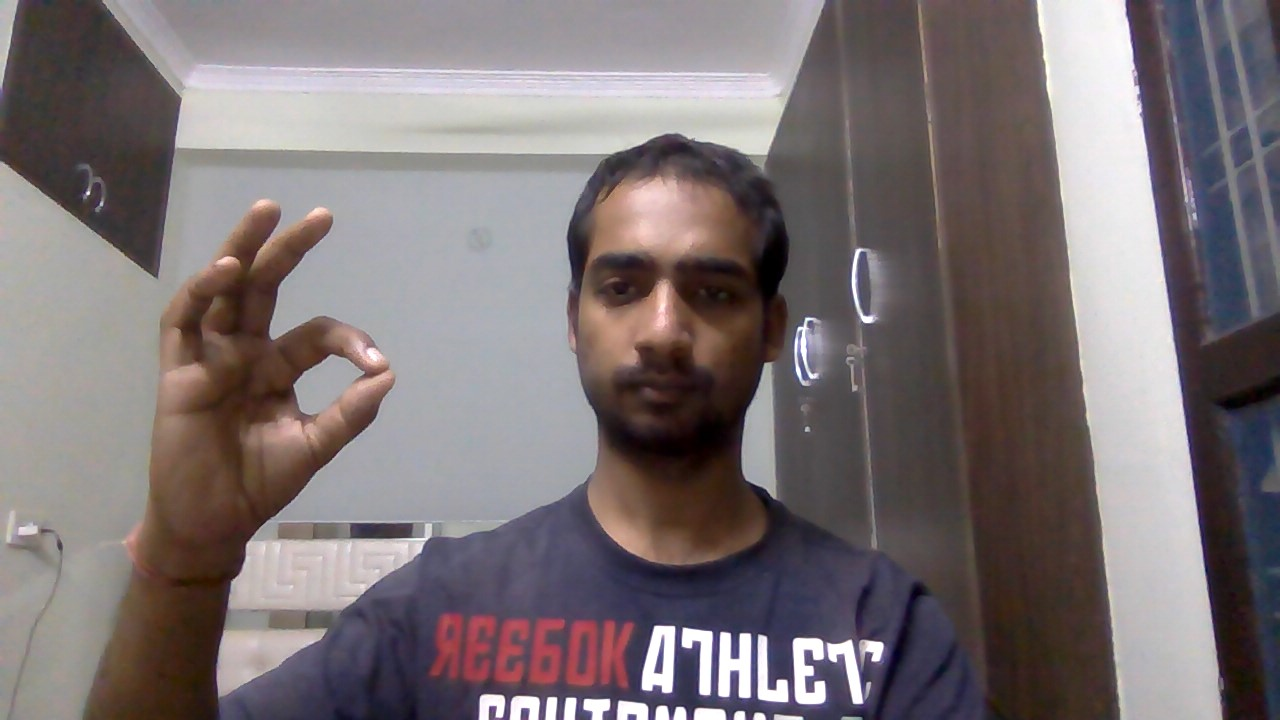Copy: (140, 186, 403, 557)
